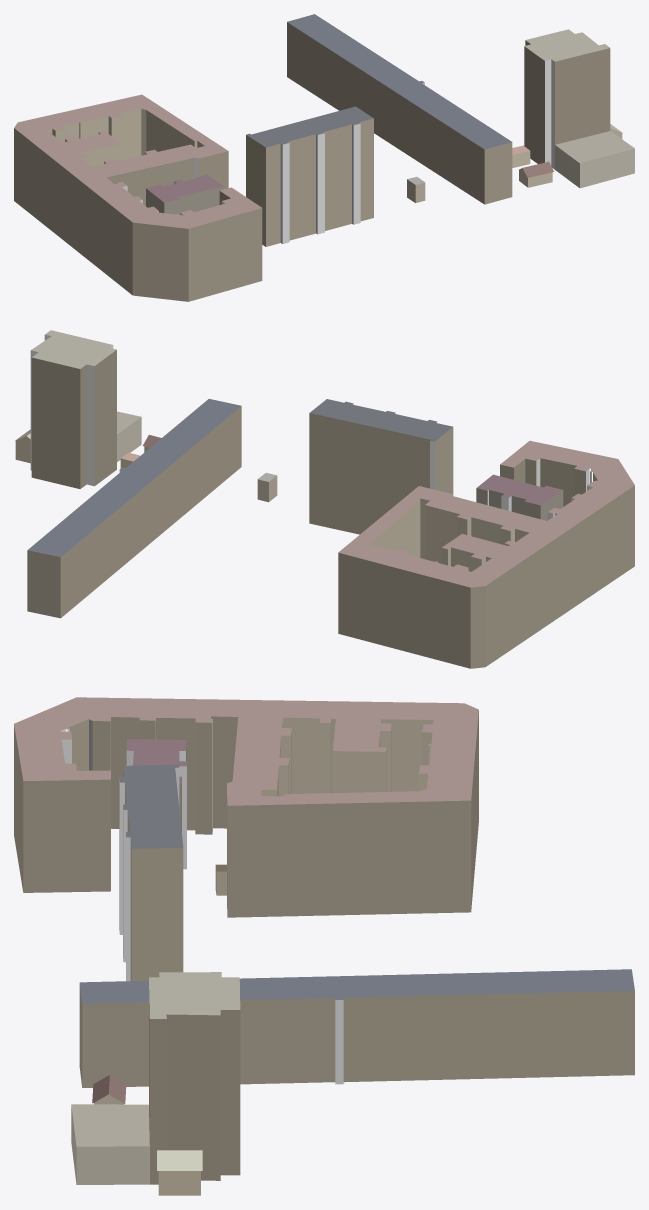
3 views of the same model, one above another, from view 1: azimuth 30°, elevation 25°; view 2: azimuth 150°, elevation 25°; view 3: azimuth 270°, elevation 25° (orthographic). The views are drawn at different scales.
Parts seen in each view (by area): view 1: tuile; view 2: tuile; view 3: tuile.
Part boxes in pixels (x1,y1,x2,y2): tuile: (14,14,634,301); tuile: (15,330,634,668); tuile: (14,697,634,1195).
Size of the model in its own units: 177 by 35.36 by 120.
